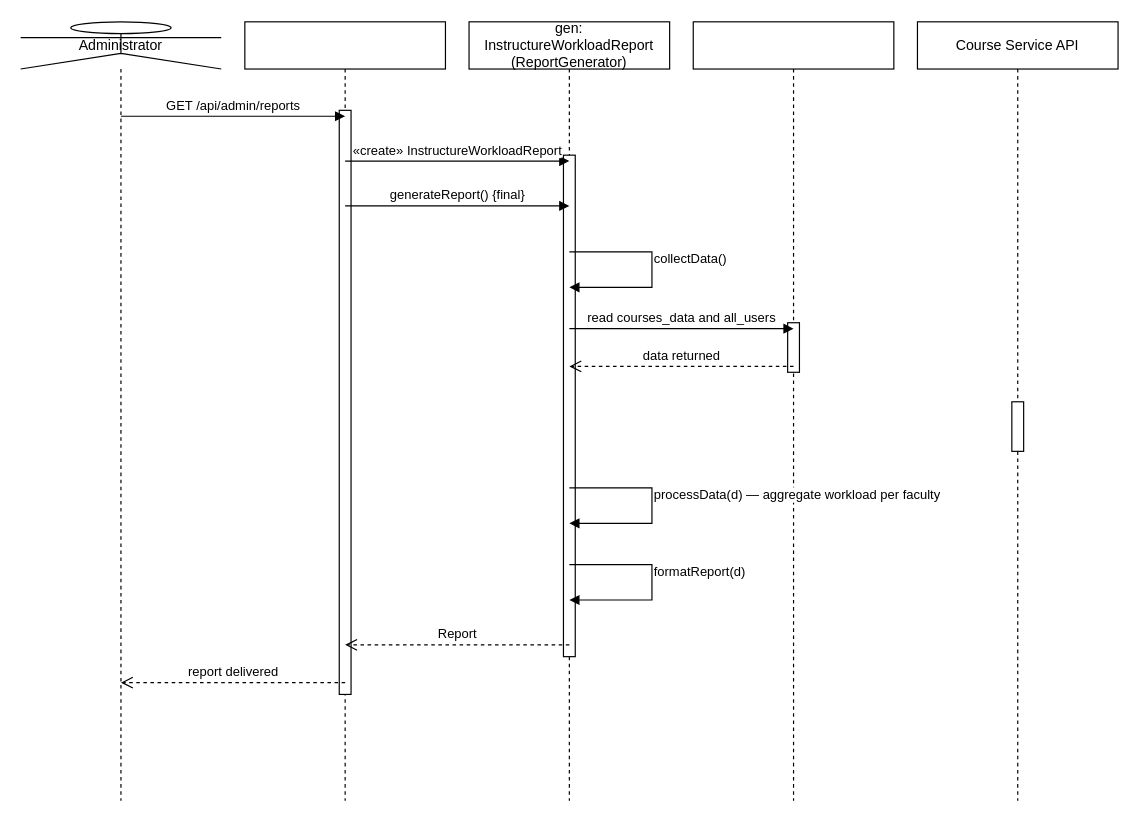
This 1139x821 diagram has some shape labels left out. The shapes that lost their labels are listed below. From the top down, each one's box as (x1, y1, x2, y2) in pixels, then its label:
(244, 21, 445, 801): ReportingController
(692, 21, 894, 801): Memory Database (courses_data, all_users)
